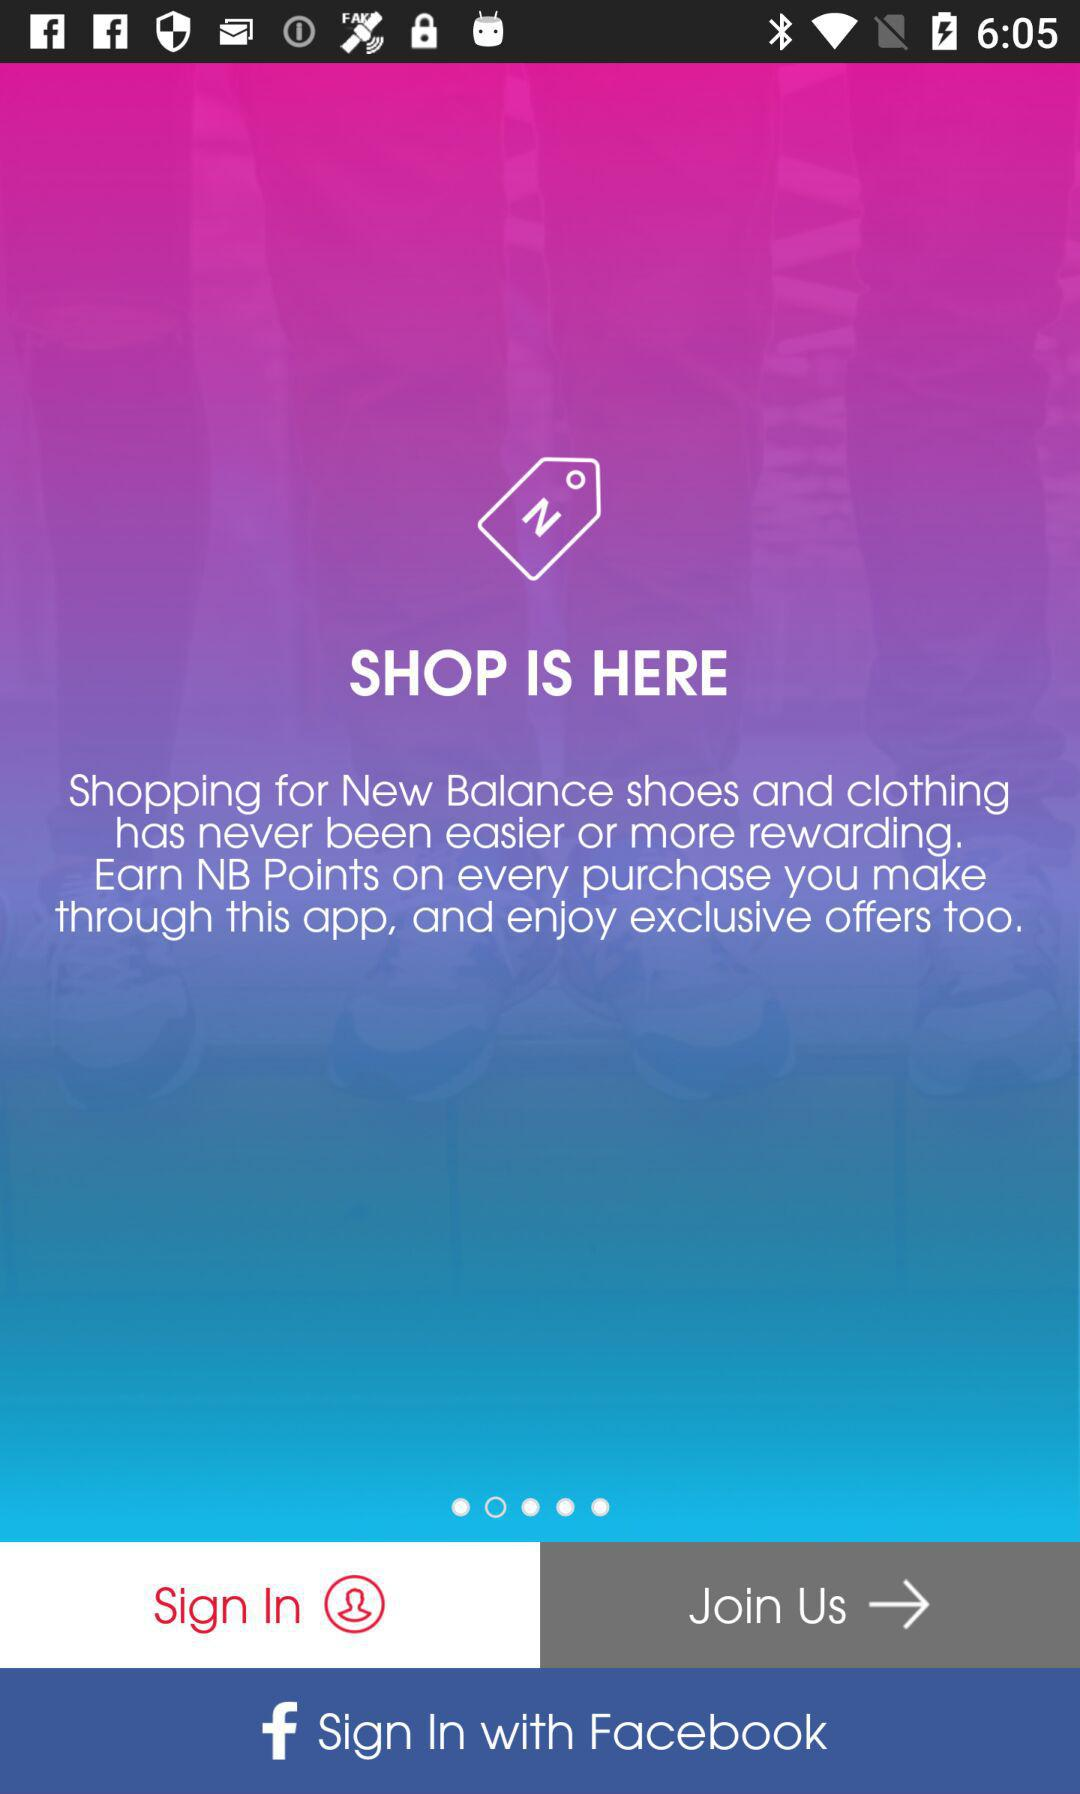Image: (477, 456, 602, 583)
PageIndicator: (448, 1495, 611, 1520)
Text: (55, 773, 1022, 943), (348, 648, 728, 698)
TextButton: (1, 1668, 1080, 1794), (1, 1542, 541, 1668), (541, 1542, 1080, 1668)
UpperTaskBar: (1, 1, 1080, 64)
